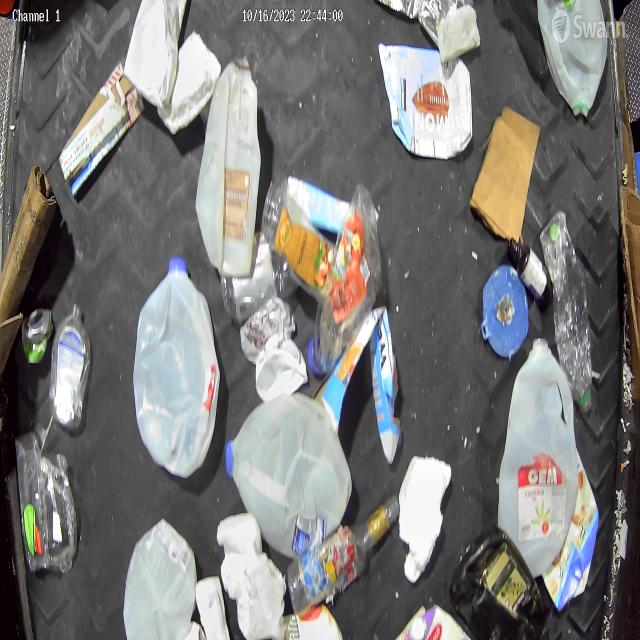can: (21, 306, 53, 367)
milk_jug: (225, 394, 354, 559), (132, 253, 220, 479), (496, 338, 578, 577), (196, 58, 262, 277), (125, 521, 197, 639), (540, 0, 610, 120)
non_white_jug: (448, 525, 548, 640), (378, 43, 474, 161)
plastic_bottle: (307, 182, 383, 376), (290, 495, 399, 611), (548, 215, 596, 412), (51, 303, 92, 432)
